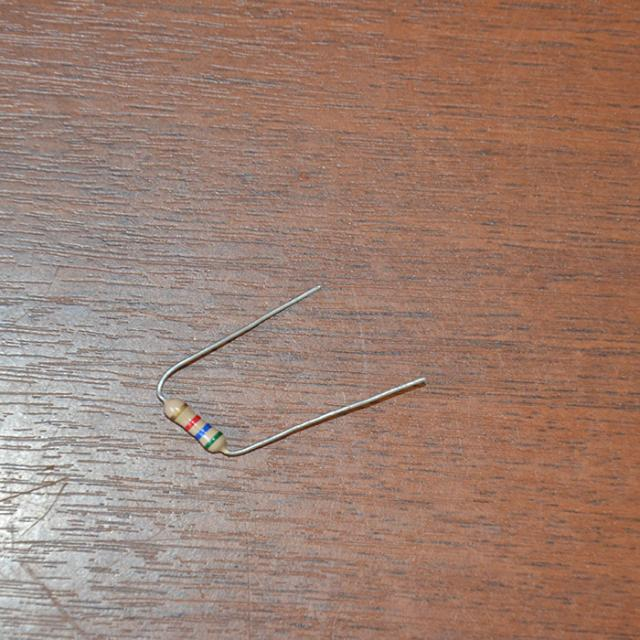blue: (196, 424, 211, 439)
gold: (170, 401, 187, 419)
green: (205, 432, 221, 449)
red: (184, 415, 199, 431)
resistor: (153, 394, 238, 456)
